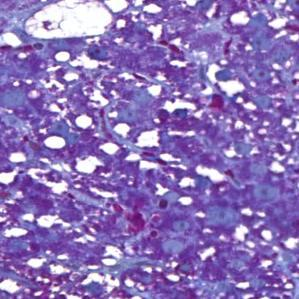ballooning: (20, 2, 115, 42)
